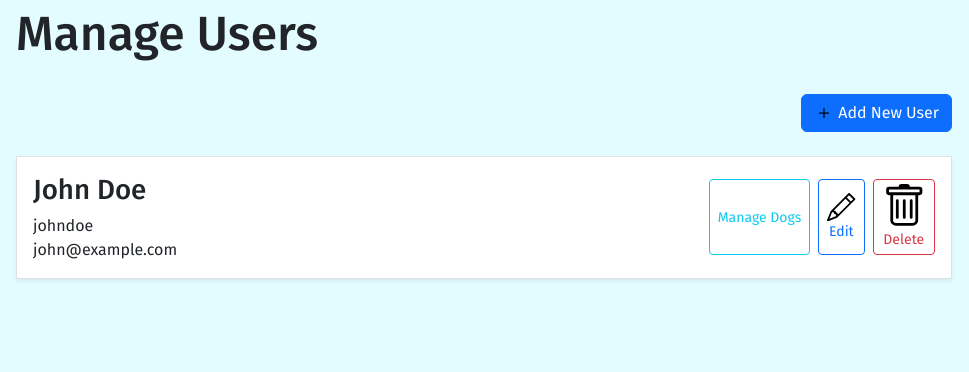
Scenario: ManageUsers Component › displays an error when deleting a user fails
Expected: the heading "John Doe" is shown, [33,173,146,206]
Click the button "Delete".
click(904, 217)  # box [872,180,935,255]
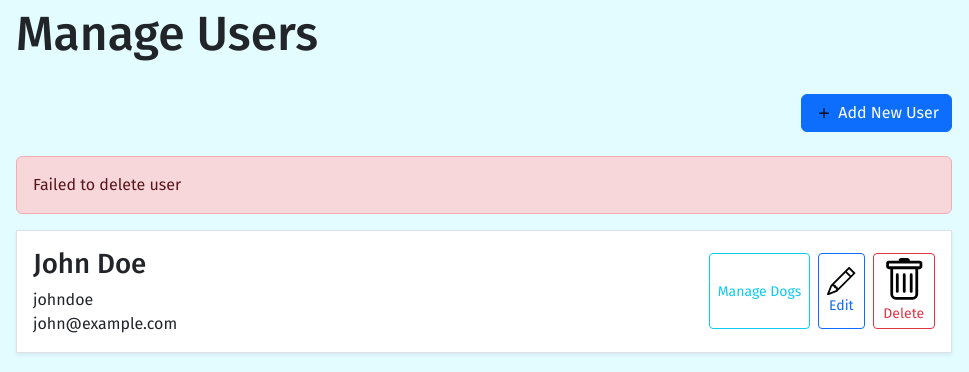
Result: the text "Failed to delete user" is shown at [16,156,952,214]
